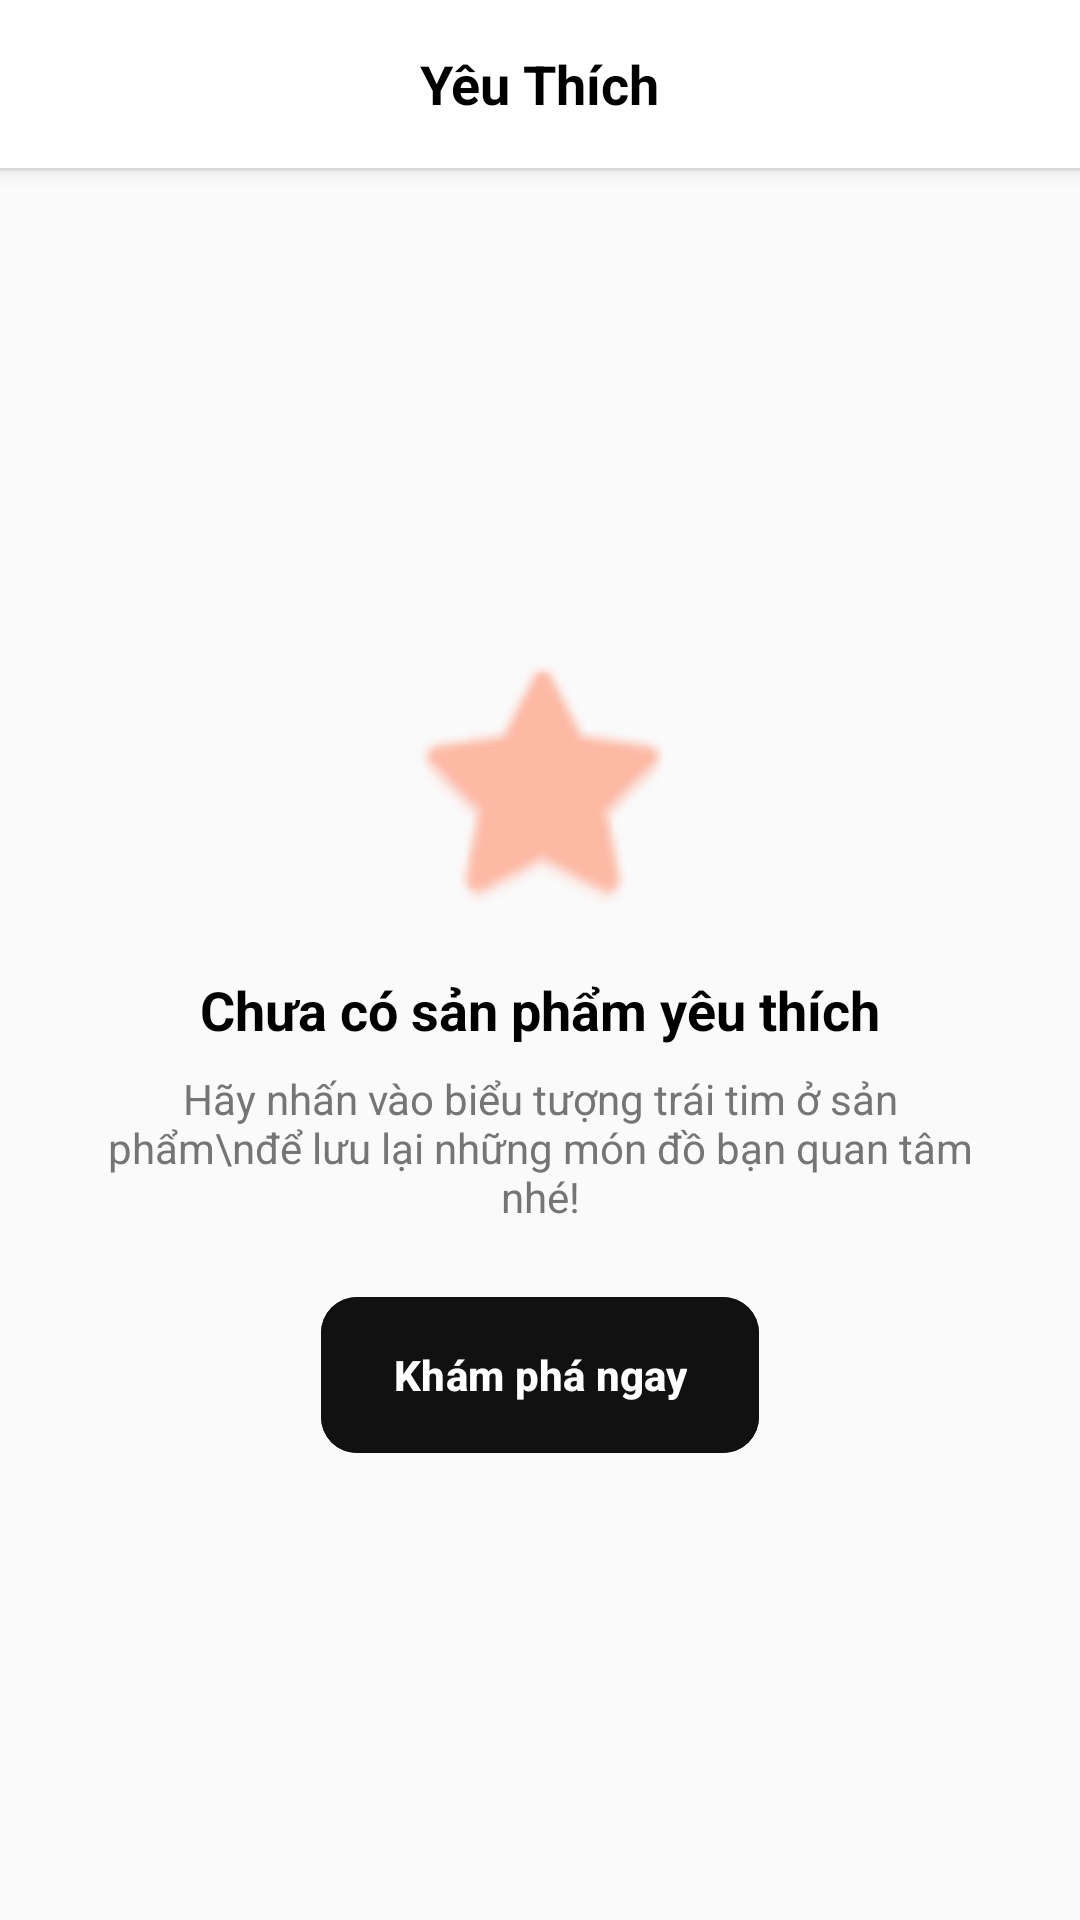

Icon bounding boxes for this 1080x1920 phone screenshot, format detection(x1, y1, x2, y2):
star off: detection(425, 669, 660, 896)
